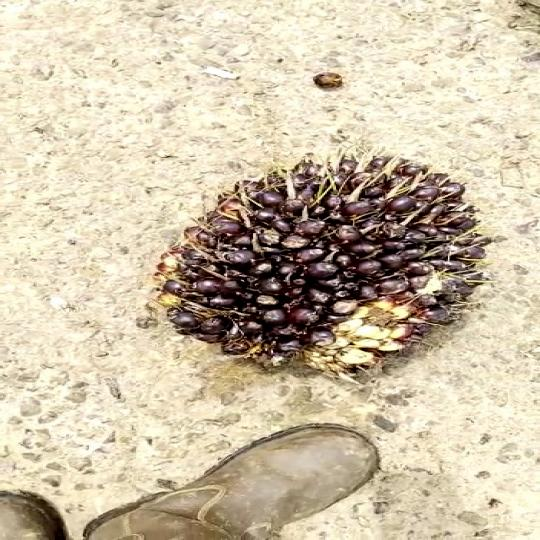mentah: (120, 132, 540, 389)
